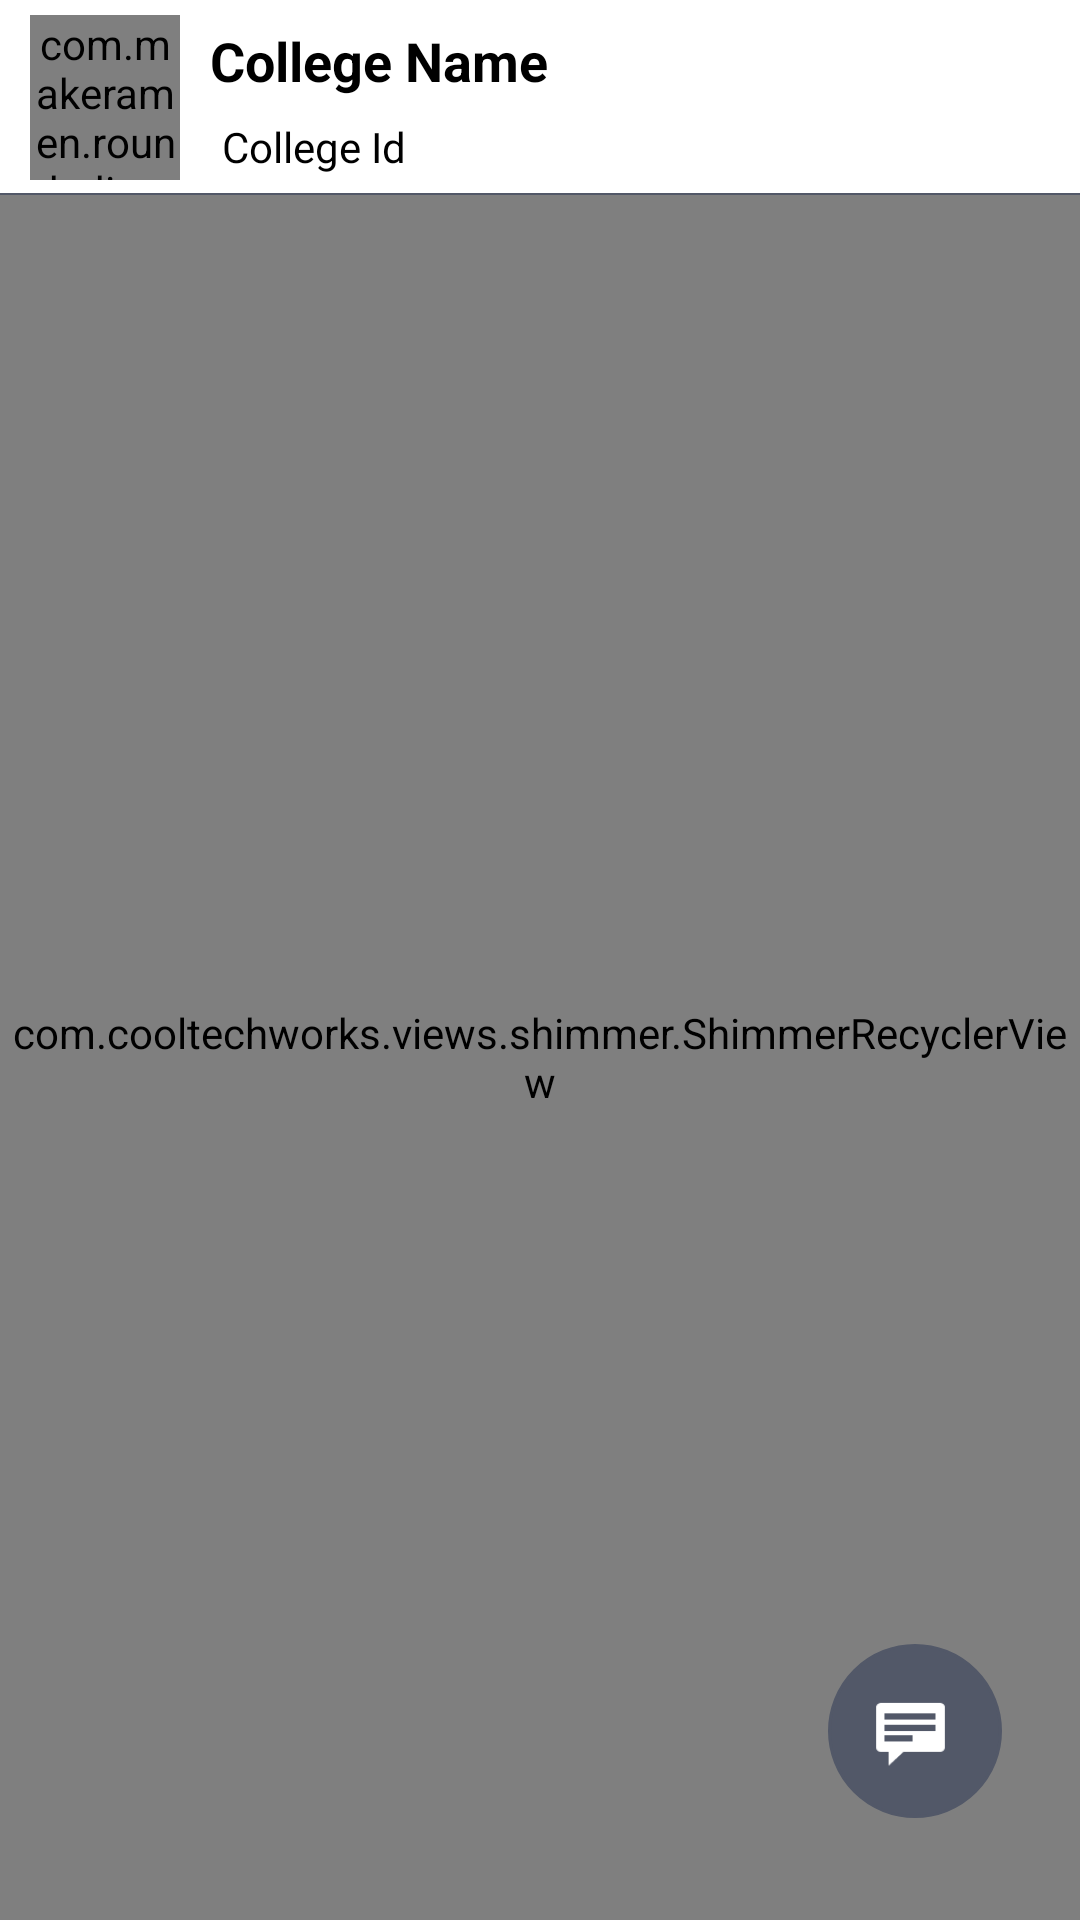

Screen size 1080px x 1920px. Icon name, then its center in pixels as (x,y):
chat: (910,1734)
